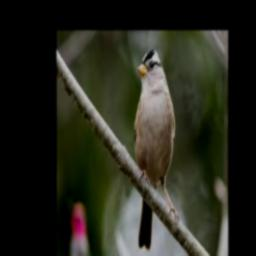Sparrow: (134, 50, 179, 249)
